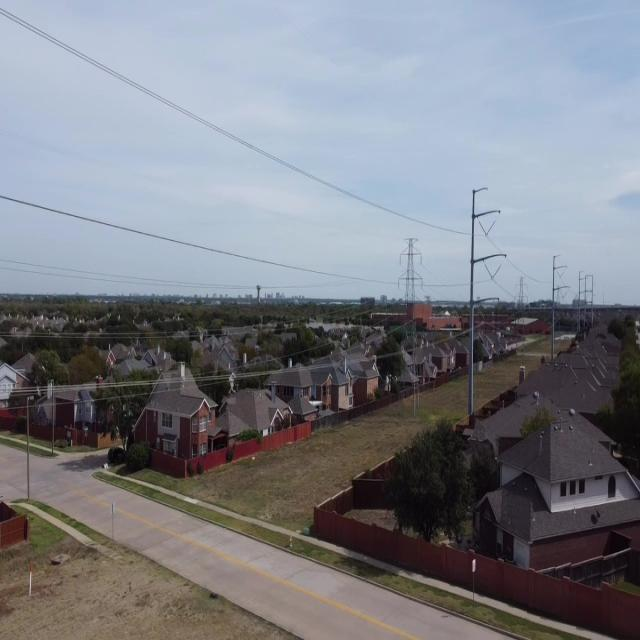杆塔: (396, 225, 426, 427)
